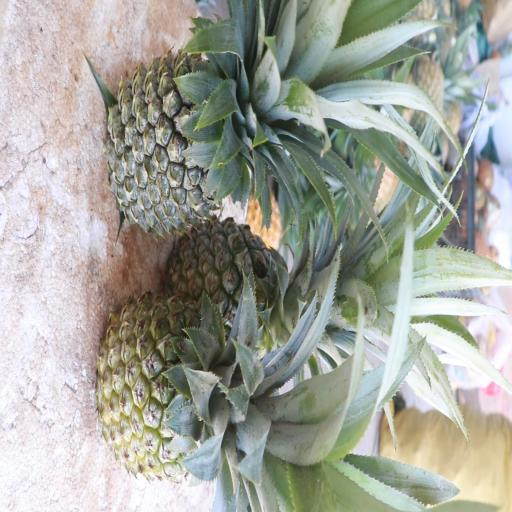------------------------------: (92, 287, 326, 493), (162, 212, 350, 352)
